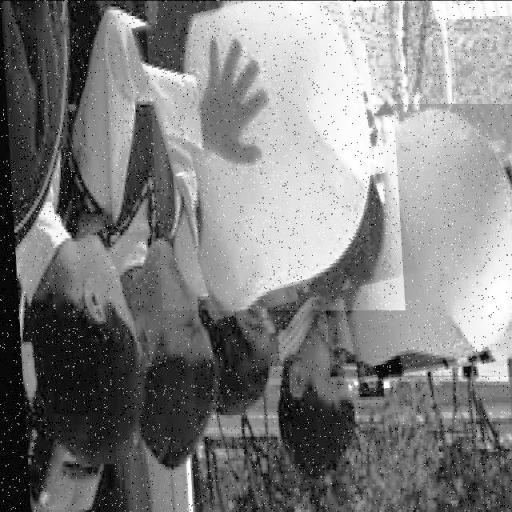balloon: (144, 0, 401, 310), (312, 103, 512, 376)
